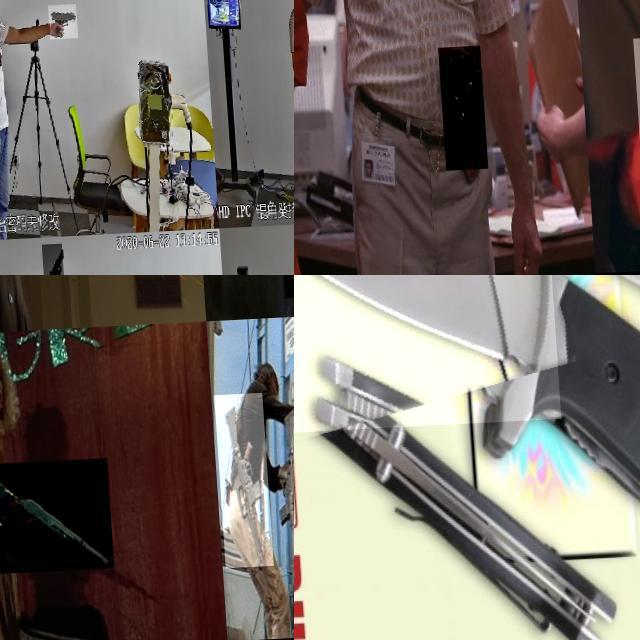-: (294, 275, 555, 465)
gun-knife-thesis - v11 Yolov5 augmented: (0, 460, 106, 576), (208, 397, 266, 572), (265, 394, 294, 632), (433, 48, 481, 173), (0, 275, 76, 347), (455, 0, 531, 31), (46, 6, 76, 41), (36, 245, 59, 275)
